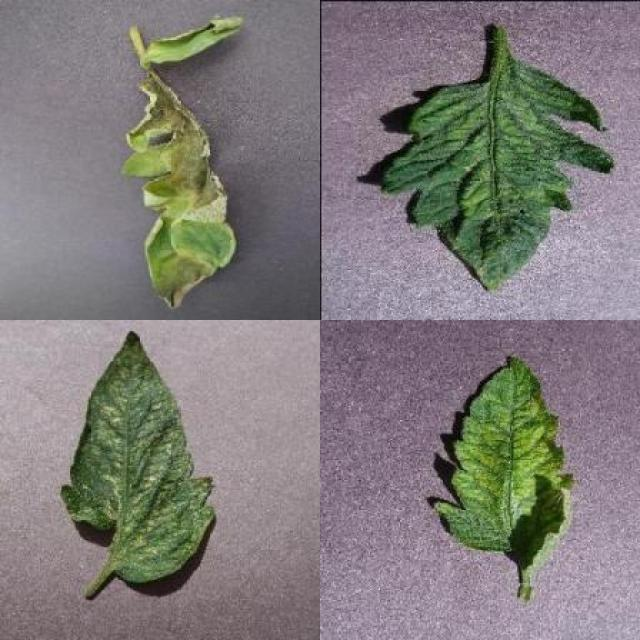Late Blight: (122, 69, 235, 310), (150, 16, 243, 64)
Mosaic Virus: (381, 58, 616, 292), (433, 354, 578, 570)
Spider Mites: (59, 328, 215, 582)
